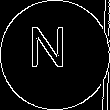N_S: (35, 30, 75, 80)
